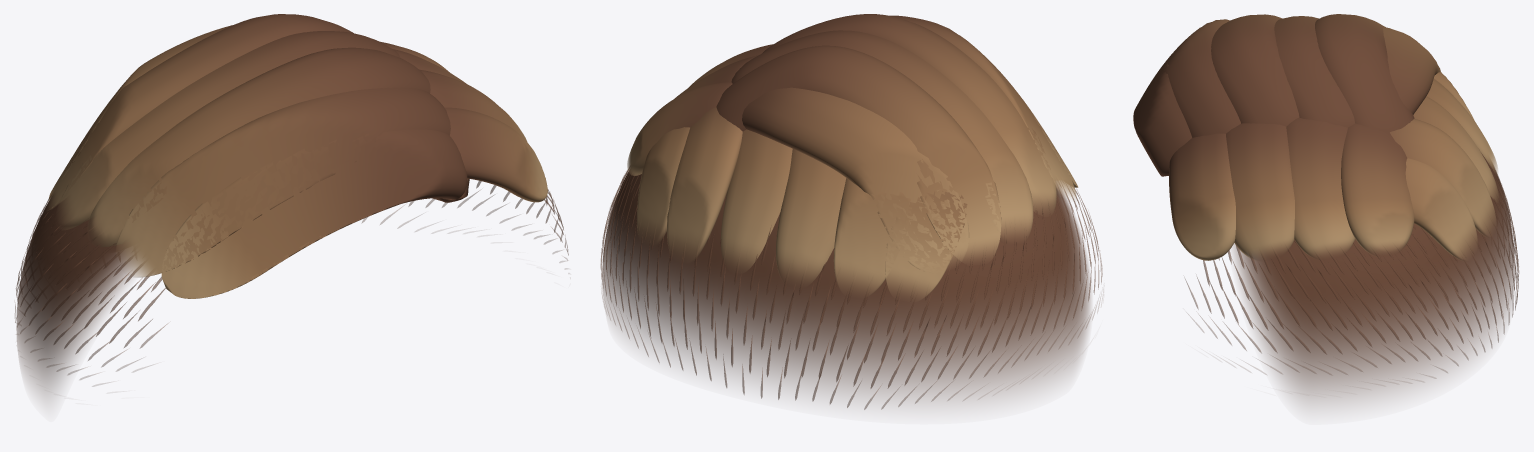
File: Masculine-taper-beanie259-hair-ombre.glb
3 renders of one model, left to right at view 1: azimuth 30°, elevation 25°; view 2: azimuth 150°, elevation 25°; view 3: azimuth 270°, elevation 25°, orthographic. The views are drawn at different scales.
Parts seen in each view (by area): view 1: 226 hair / Hair258 / sculpted side sweep 1, 226 hair / Hair258 / sculpted side sweep 0, 226 hair / Hair258 / sculpted side sweep 2, 226 hair / Hair258 / smooth side fade, 226 hair / Hair259 / directional fade marks214; view 2: 226 hair / Hair258 / smooth side fade, 226 hair / Hair258 / sculpted side sweep 0, 226 hair / Hair258 / sculpted side sweep 1, 226 hair / Hair258 / sculpted side sweep 2, 226 hair / Hair259 / directional fade marks214; view 3: 226 hair / Hair258 / smooth side fade, 226 hair / Hair258 / sculpted side sweep 0, 226 hair / Hair258 / sculpted side sweep 1, 226 hair / Hair258 / sculpted side sweep 2, 226 hair / Hair259 / directional fade marks214.
Boxes of the visible parts, bbox=[...] form: 226 hair / Hair258 / sculpted side sweep 1: bbox=[49, 31, 547, 298]; 226 hair / Hair258 / sculpted side sweep 0: bbox=[47, 14, 527, 277]; 226 hair / Hair258 / sculpted side sweep 2: bbox=[87, 47, 466, 247]; 226 hair / Hair258 / smooth side fade: bbox=[16, 192, 547, 399]; 226 hair / Hair259 / directional fade marks214: bbox=[15, 180, 569, 386]; 226 hair / Hair258 / smooth side fade: bbox=[602, 169, 1090, 404]; 226 hair / Hair258 / sculpted side sweep 0: bbox=[667, 15, 1076, 294]; 226 hair / Hair258 / sculpted side sweep 1: bbox=[627, 30, 1078, 299]; 226 hair / Hair258 / sculpted side sweep 2: bbox=[637, 14, 1056, 284]; 226 hair / Hair259 / directional fade marks214: bbox=[600, 167, 1103, 409]; 226 hair / Hair258 / smooth side fade: bbox=[1233, 153, 1514, 405]; 226 hair / Hair258 / sculpted side sweep 0: bbox=[1157, 14, 1495, 260]; 226 hair / Hair258 / sculpted side sweep 1: bbox=[1133, 16, 1498, 260]; 226 hair / Hair258 / sculpted side sweep 2: bbox=[1211, 14, 1497, 260]; 226 hair / Hair259 / directional fade marks214: bbox=[1185, 162, 1519, 381].
Size of the model in its own units: 0.9743 by 0.6474 by 0.7443.
